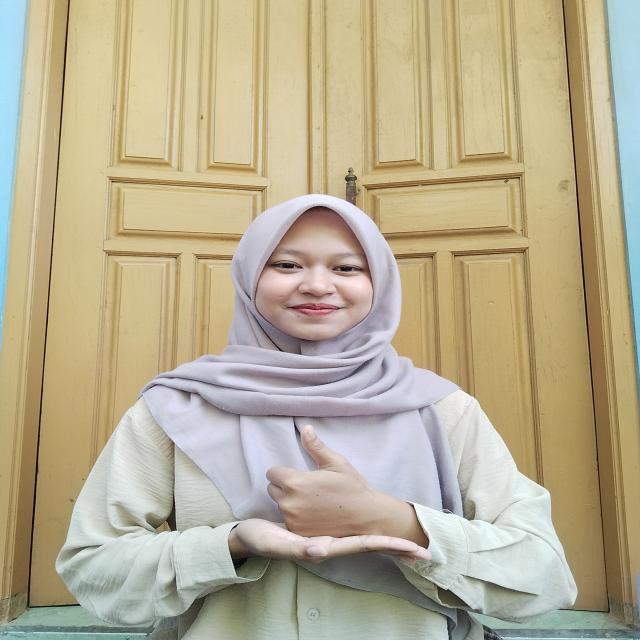cantik: (212, 418, 438, 580)
